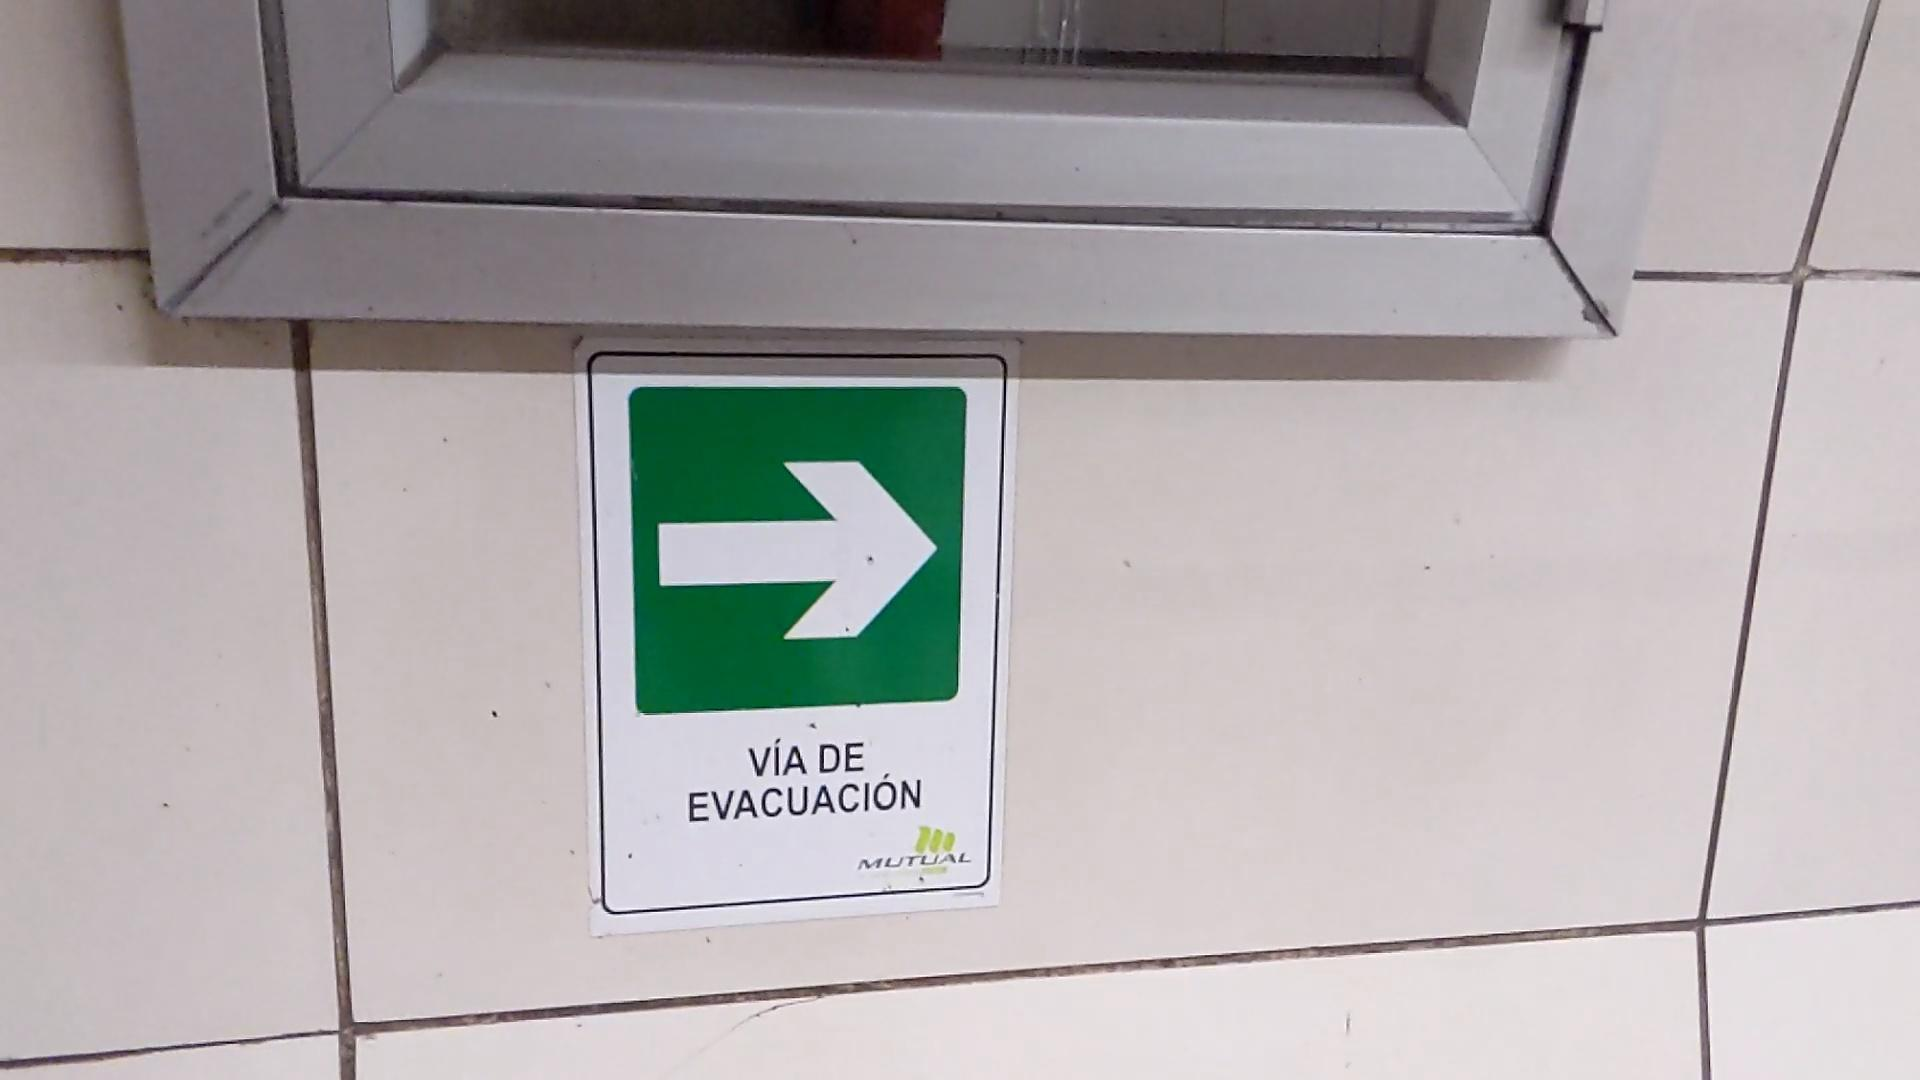emergency right arrow: (654, 452, 942, 645)
